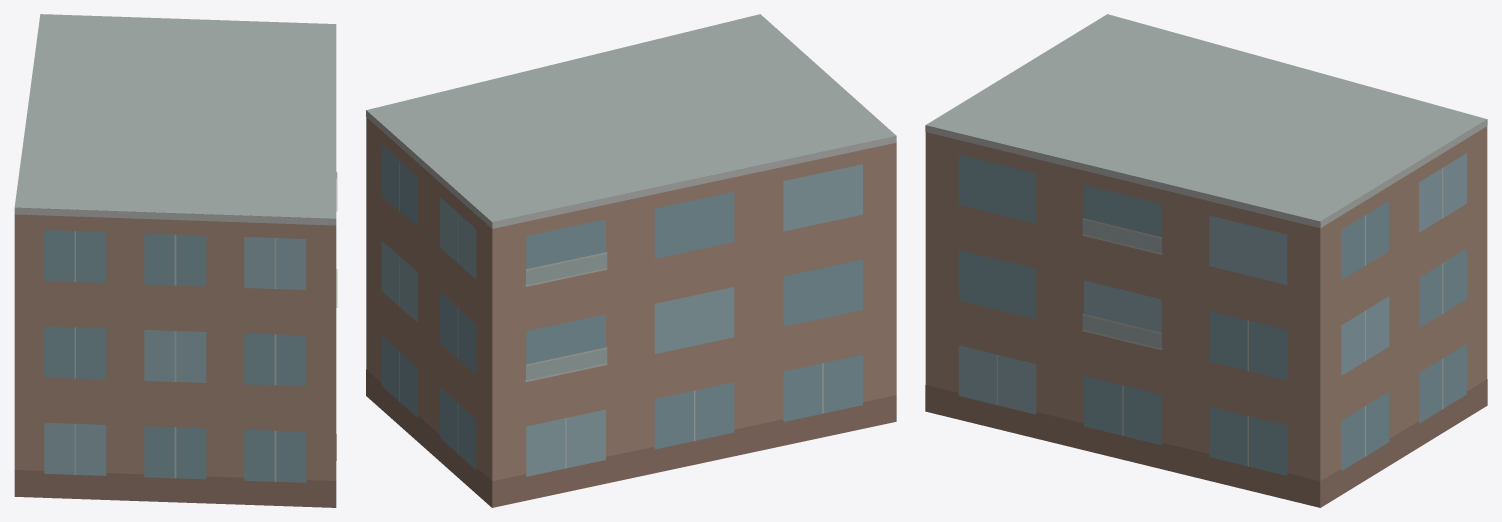
Rendered from survey-upis-32836822.glb.
The picture shows the model from 3 angles, left to right: view 1: azimuth 30°, elevation 25°; view 2: azimuth 150°, elevation 25°; view 3: azimuth 270°, elevation 25°; orthographic projection.
Parts seen in each view (by area): view 1: survey-upis-32836822.tmp; view 2: survey-upis-32836822.tmp; view 3: survey-upis-32836822.tmp.
Boxes of the visible parts, <box> form: survey-upis-32836822.tmp: <box>14,14,337,507</box>; survey-upis-32836822.tmp: <box>366,14,896,507</box>; survey-upis-32836822.tmp: <box>925,14,1487,507</box>.
Size of the model in its own units: 16.01 by 10.3 by 18.33.
